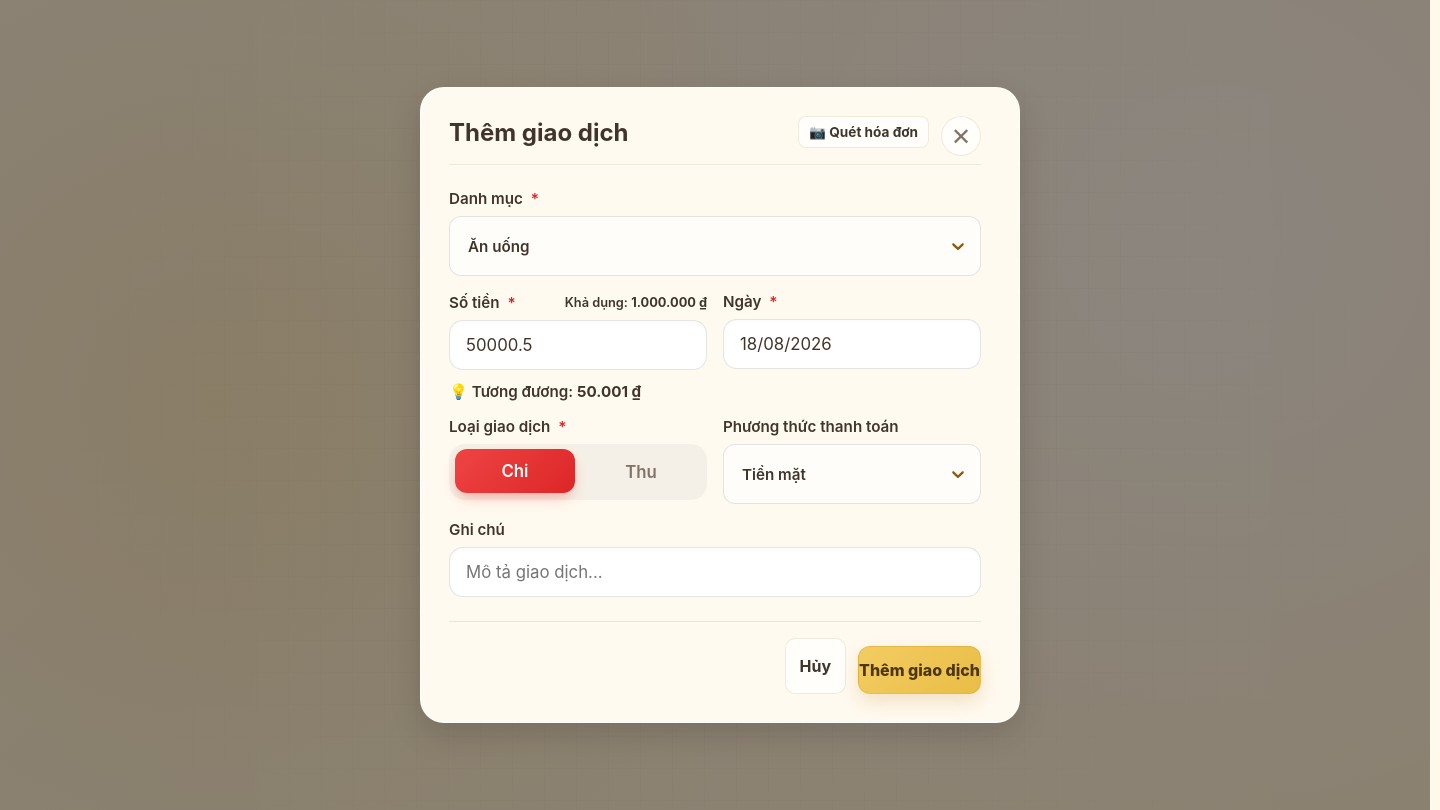
Test case: rejects decimal amounts with a friendly integer warning
This screenshot has width=1440, height=810.
Click the button "Thêm giao dịch" at x=920, y=670, box [858,646,981,694]
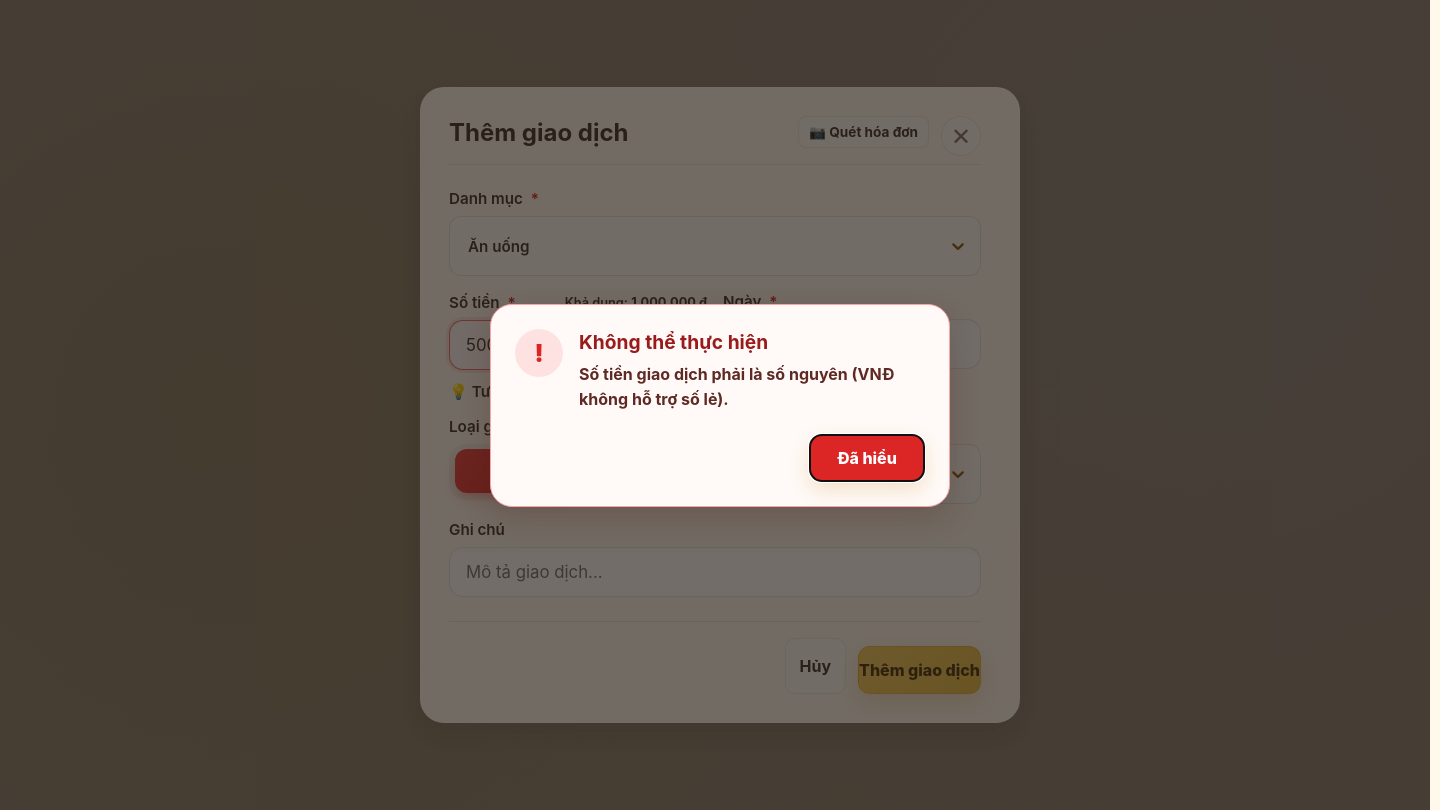
Check: the dialog "Không thể thực hiện" shows "phải là số nguyên", box [579,364,894,408]
